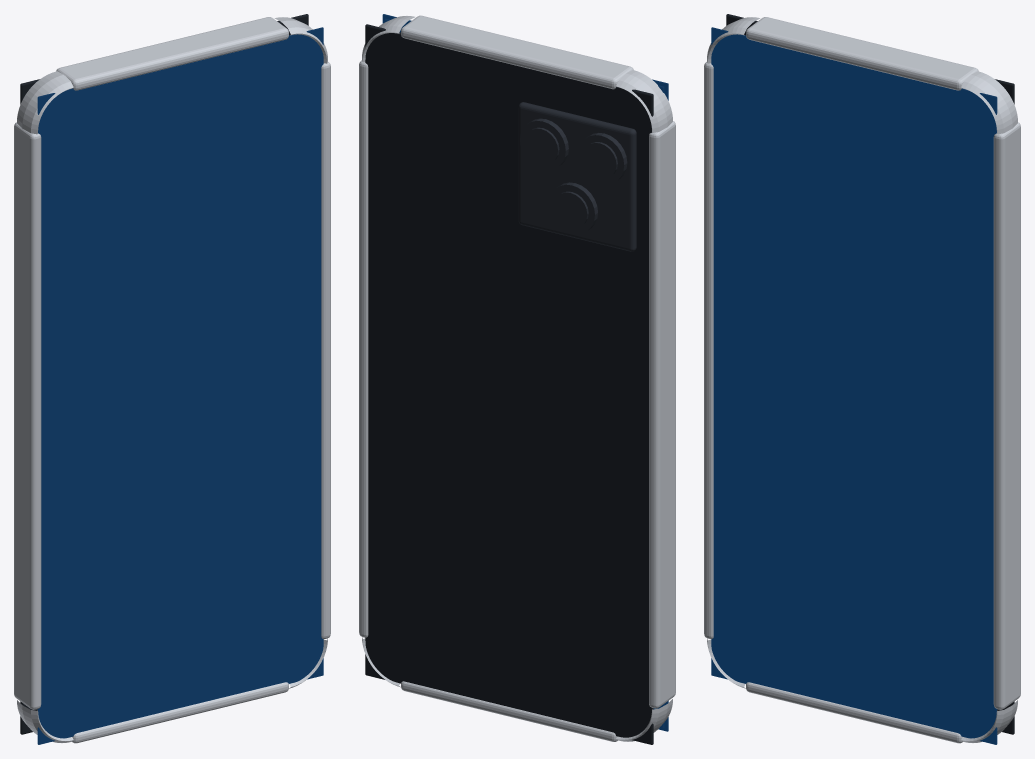
Rendered from smartphone.glb.
The picture shows the model from 3 angles, left to right: view 1: azimuth 30°, elevation 25°; view 2: azimuth 150°, elevation 25°; view 3: azimuth 330°, elevation 25°; orthographic projection.
Parts seen in each view (by area): view 1: display, frame; view 2: back_glass, frame, camera_module; view 3: display, frame.
Part boxes in pixels (bbox=[...]): display: bbox=[37, 27, 323, 744]; frame: bbox=[14, 17, 330, 743]; back_glass: bbox=[365, 24, 653, 744]; frame: bbox=[359, 15, 675, 741]; camera_module: bbox=[518, 102, 636, 251]; display: bbox=[711, 27, 997, 744]; frame: bbox=[704, 17, 1020, 743].
Bounding box in the file's own units: 0.72 × 1.52 × 0.115.
